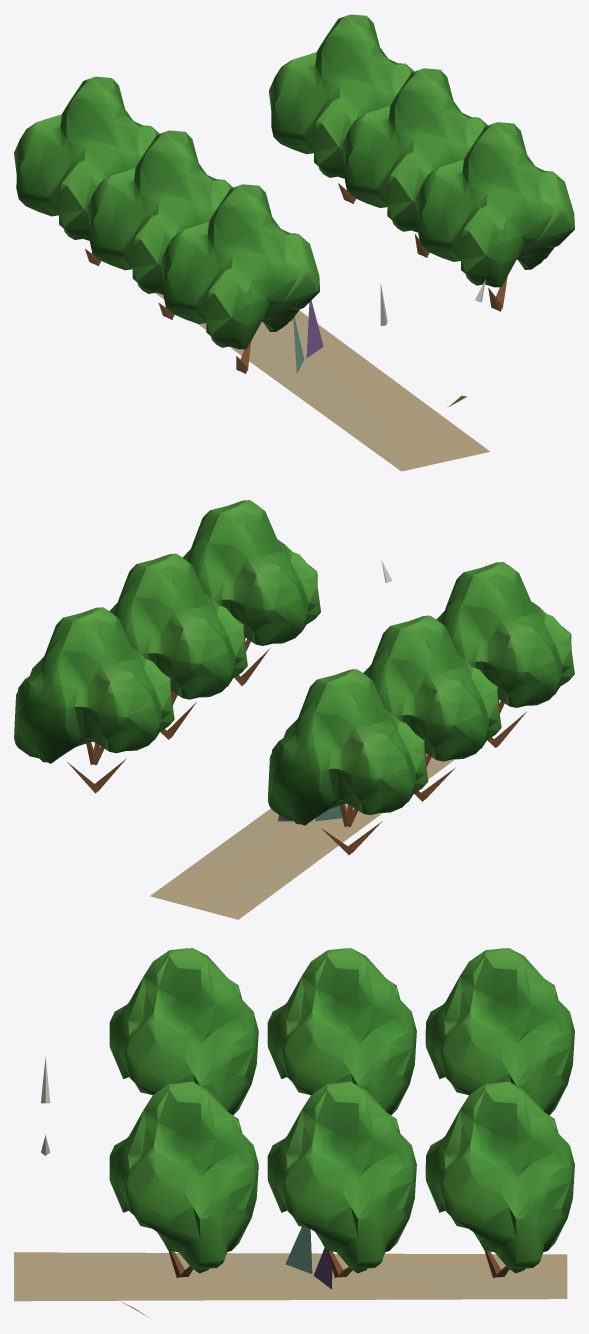
File: orchard_walk.glb
3 renders of one model, top to bottom at view 1: azimuth 30°, elevation 25°; view 2: azimuth 150°, elevation 25°; view 3: azimuth 270°, elevation 25°, orthographic. The views are drawn at different scales.
Parts seen in each view (by area): view 1: town-orchard_walk; view 2: town-orchard_walk; view 3: town-orchard_walk.
Part boxes in pixels (box(x1,y1,x2,y2)): town-orchard_walk: box(14, 14, 574, 471); town-orchard_walk: box(14, 500, 574, 919); town-orchard_walk: box(14, 948, 574, 1317).
Bounding box in the file's own units: 6.21 × 3.68 × 7.1.
